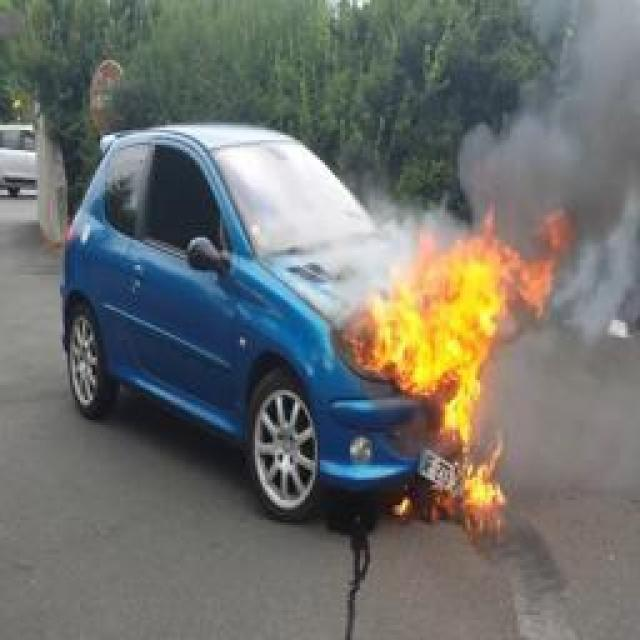Fire: (345, 206, 550, 529)
